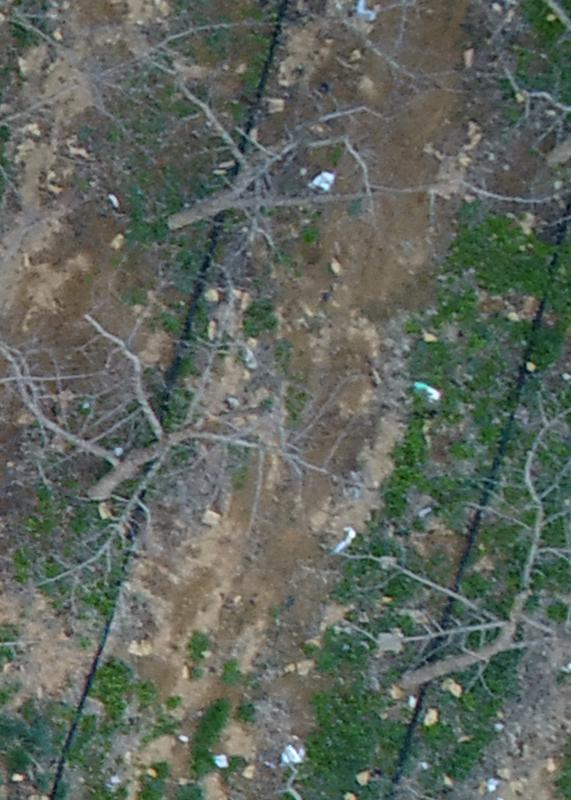apple: (10, 313, 334, 597), (125, 34, 423, 275)
